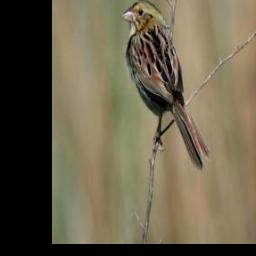Sparrow: (120, 0, 213, 174)
